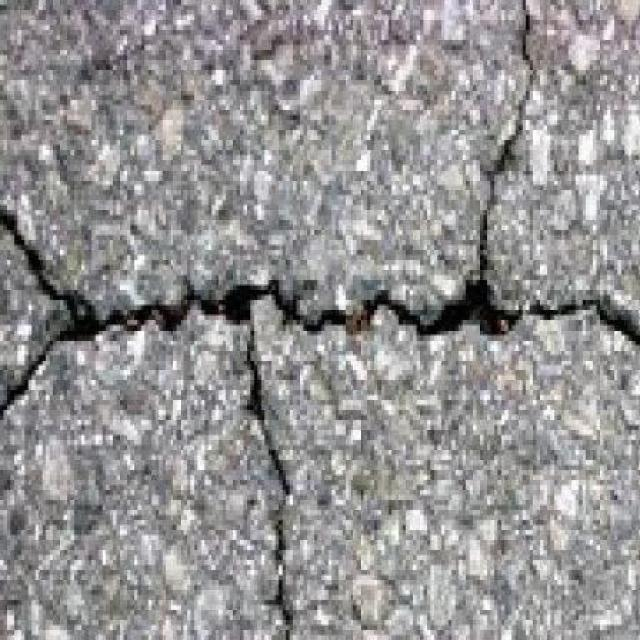Crack: (0, 0, 640, 496), (266, 520, 295, 639)
